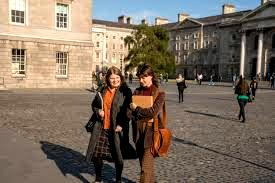mask: (107, 71, 122, 88), (139, 71, 150, 87)
